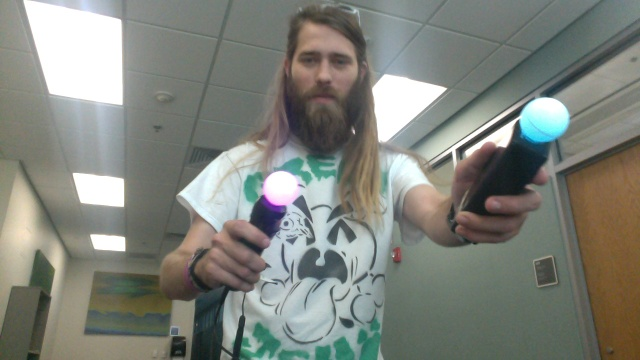wand: (520, 98, 569, 144), (264, 172, 298, 206)
